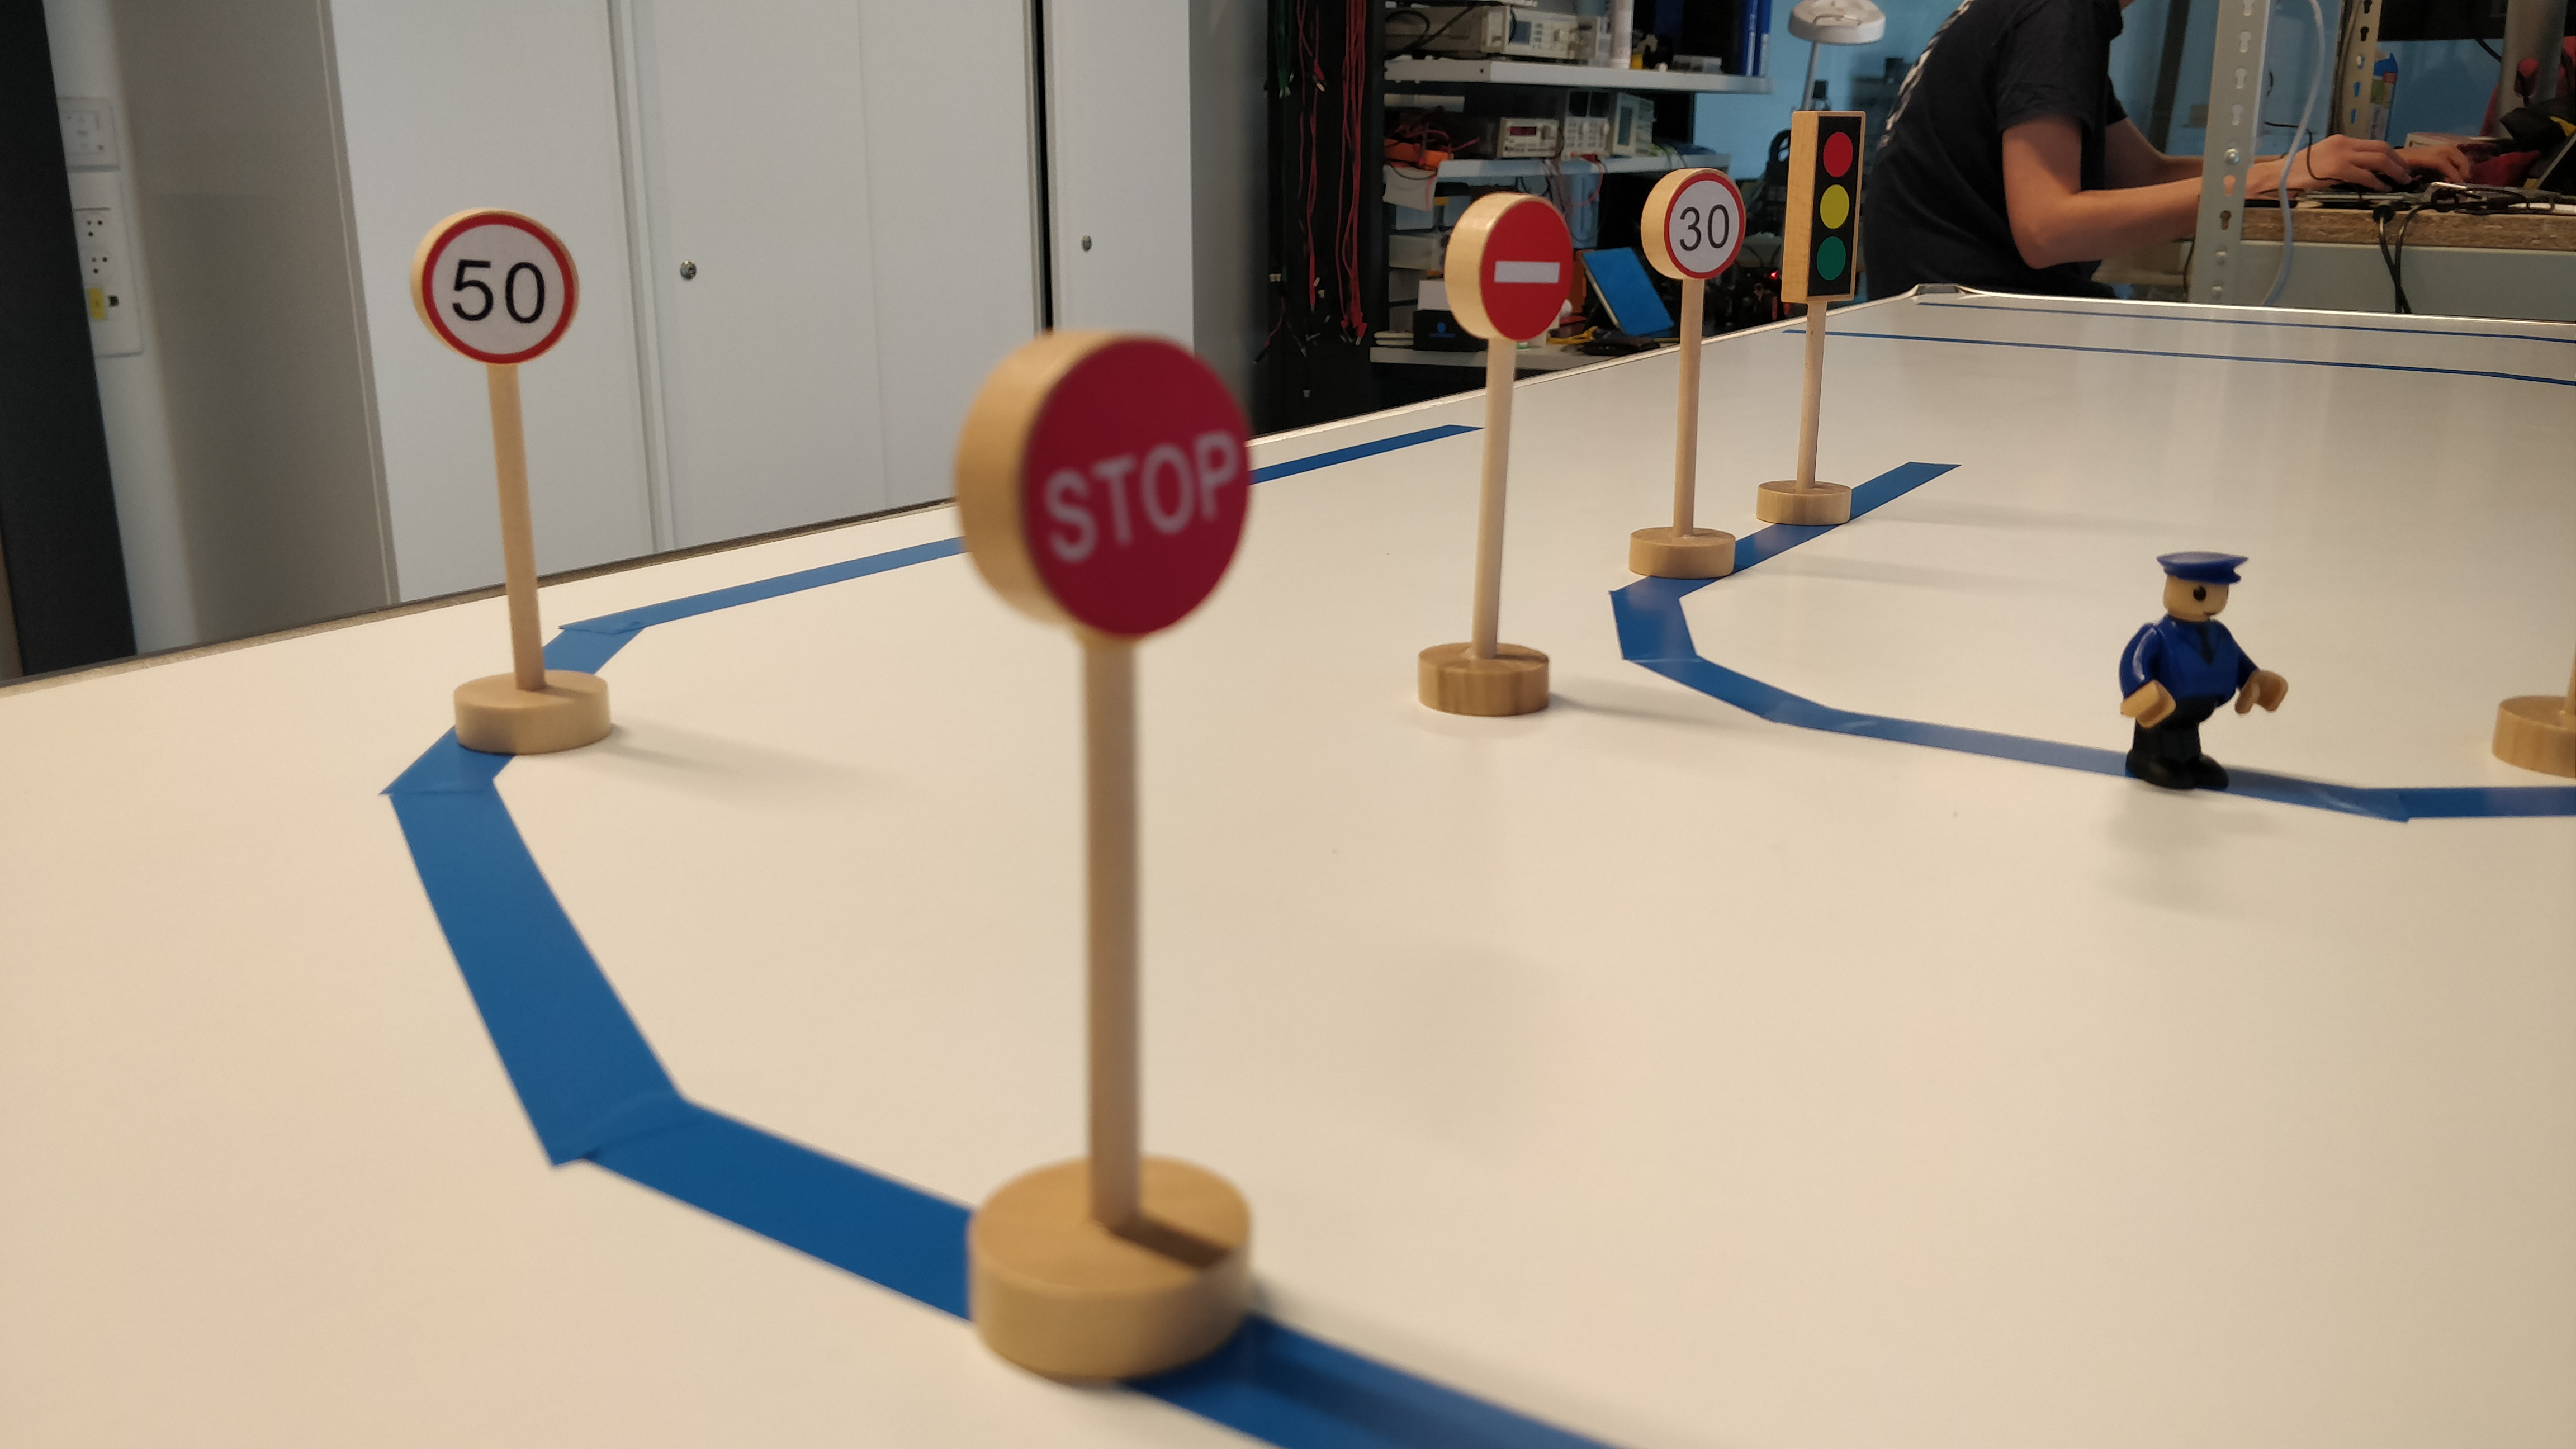Person: (2109, 543, 2296, 794)
Prohibition Sign: (1443, 188, 1581, 345)
Speed Limit 30: (1637, 165, 1745, 282)
Speed Limit 50: (403, 206, 589, 370)
Stop Sign: (942, 330, 1261, 652)
Traffic Light: (1783, 110, 1866, 311)
